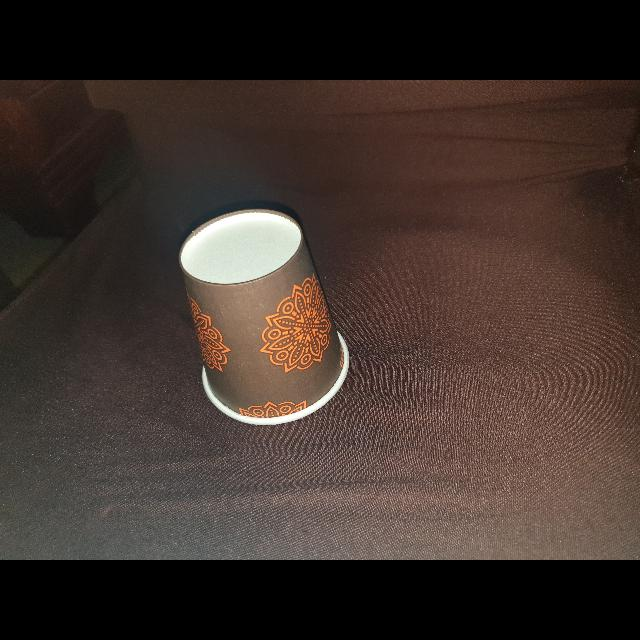trash: (173, 198, 357, 432)
